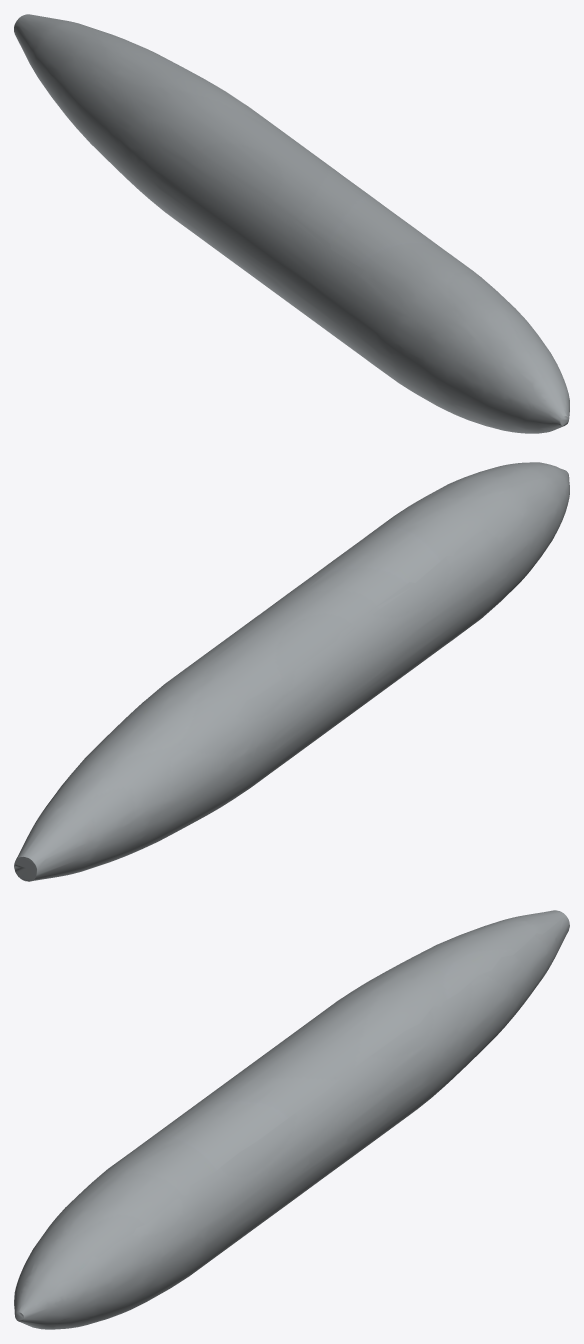
The model's file is tank300gal.glb.
The picture shows the model from 3 angles, top to bottom: view 1: azimuth 30°, elevation 25°; view 2: azimuth 150°, elevation 25°; view 3: azimuth 330°, elevation 25°; orthographic projection.
Parts seen in each view (by area): view 1: airframe; view 2: airframe; view 3: airframe.
Part boxes in pixels (box(x1,y1,x2,y2)): airframe: box(14, 14, 569, 433); airframe: box(14, 462, 569, 881); airframe: box(14, 910, 569, 1329).
Size of the model in its own units: 0.644 by 0.6431 by 5.14.
1 material, 1 textured.
